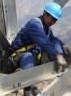boots: (63, 89, 71, 96)
gloves: (55, 52, 66, 66), (61, 42, 71, 55)
hard-hat: (0, 0, 17, 24)
ppe-suit: (2, 14, 57, 68)
vest: (52, 9, 71, 59)
